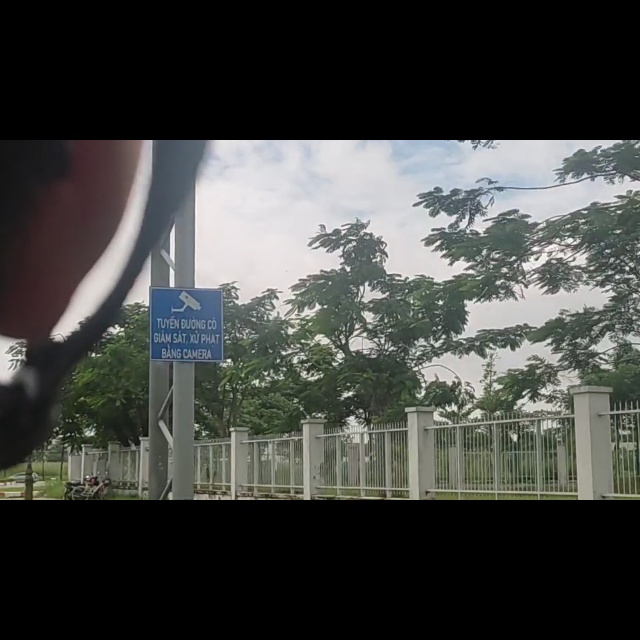Đoạn đường có camera giám sát: (149, 284, 227, 366)
